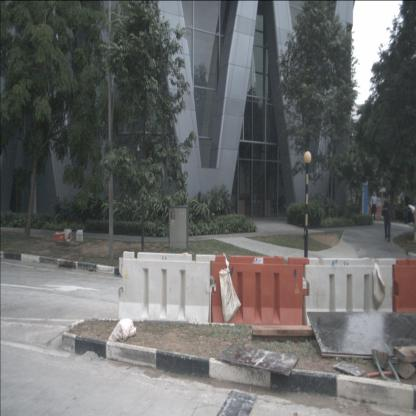human-pedestrian-adult: (381, 194, 395, 242), (370, 191, 378, 222), (404, 192, 411, 226)
movable_object-barrier: (210, 254, 308, 332), (118, 251, 216, 327), (304, 257, 396, 336), (392, 258, 416, 338), (369, 206, 383, 216)
vehicle-car: (388, 203, 416, 225), (272, 196, 294, 210)
